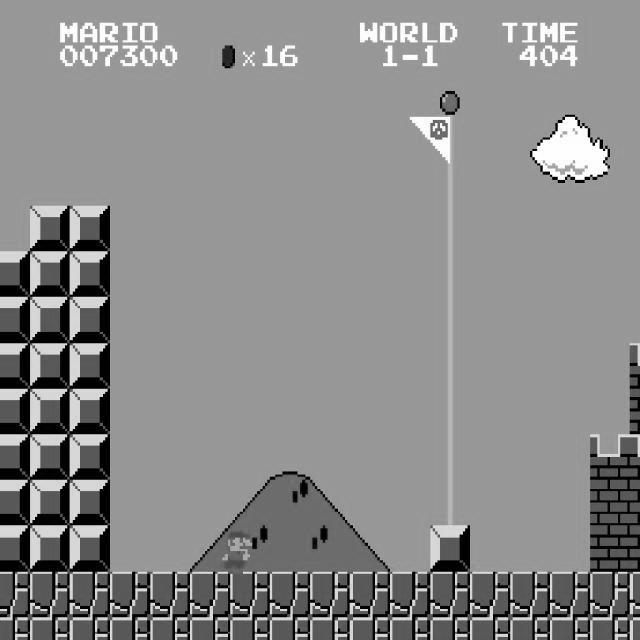11- little_mario: (212, 526, 255, 574)
17- undestructible_block: (30, 572, 70, 618), (70, 572, 110, 618), (110, 572, 150, 618), (150, 572, 190, 618), (190, 572, 230, 618), (230, 572, 270, 618), (270, 572, 310, 618), (310, 572, 350, 618), (350, 572, 390, 618), (390, 572, 430, 618), (430, 572, 470, 618), (470, 572, 510, 618), (510, 572, 550, 618), (550, 572, 590, 618), (590, 572, 630, 618), (0, 572, 30, 618), (30, 617, 70, 640), (70, 617, 110, 640), (110, 617, 150, 640), (150, 617, 190, 640), (190, 617, 230, 640), (230, 617, 270, 640), (270, 617, 310, 640), (310, 617, 350, 640), (350, 617, 390, 640), (390, 617, 430, 640), (430, 617, 470, 640), (470, 617, 510, 640), (510, 617, 550, 640), (550, 617, 590, 640), (590, 617, 630, 640), (0, 617, 30, 640), (629, 571, 640, 617), (629, 617, 640, 639)
7- goal_pole: (430, 68, 470, 114), (430, 114, 470, 160), (430, 160, 470, 206), (430, 252, 470, 298), (430, 297, 470, 343), (430, 388, 470, 434), (430, 434, 470, 480), (430, 480, 470, 526), (430, 206, 470, 251), (430, 343, 470, 388)
9- hard_block: (30, 252, 70, 298), (30, 297, 70, 343), (30, 388, 70, 434), (30, 434, 70, 480), (30, 480, 70, 526), (30, 526, 70, 572), (70, 252, 110, 298), (70, 297, 110, 343), (70, 388, 110, 434), (70, 434, 110, 480), (70, 480, 110, 526), (70, 526, 110, 572), (430, 526, 470, 572), (30, 206, 70, 251), (30, 343, 70, 388), (70, 206, 110, 251), (70, 343, 110, 388), (0, 252, 30, 298), (0, 297, 30, 343), (0, 388, 30, 434), (0, 434, 30, 480), (0, 480, 30, 526), (0, 526, 30, 572), (0, 343, 30, 388)
